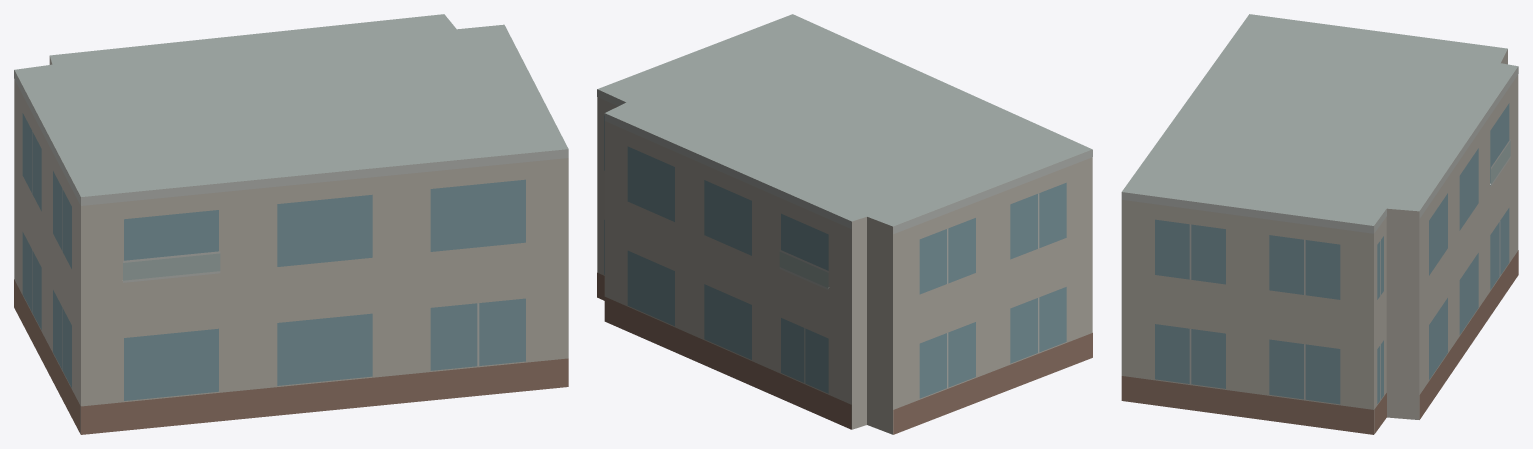
The model's file is survey-upis-32657440.glb.
3 views of the same model, side by side, from view 1: azimuth 30°, elevation 25°; view 2: azimuth 150°, elevation 25°; view 3: azimuth 270°, elevation 25° (orthographic). The views are drawn at different scales.
Visible parts, largest first — view 1: survey-upis-32657440.tmp; view 2: survey-upis-32657440.tmp; view 3: survey-upis-32657440.tmp.
Boxes of the visible parts, x1,y1,x2,y2 form: survey-upis-32657440.tmp: [14, 14, 568, 434]; survey-upis-32657440.tmp: [597, 14, 1092, 434]; survey-upis-32657440.tmp: [1121, 14, 1518, 434].
Size of the model in its own units: 14.27 by 6.55 by 11.29.
